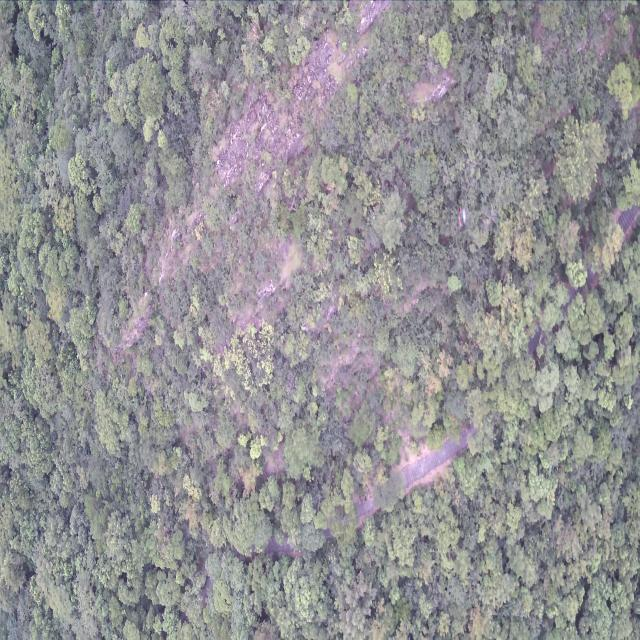UAV: (458, 205, 470, 228)
